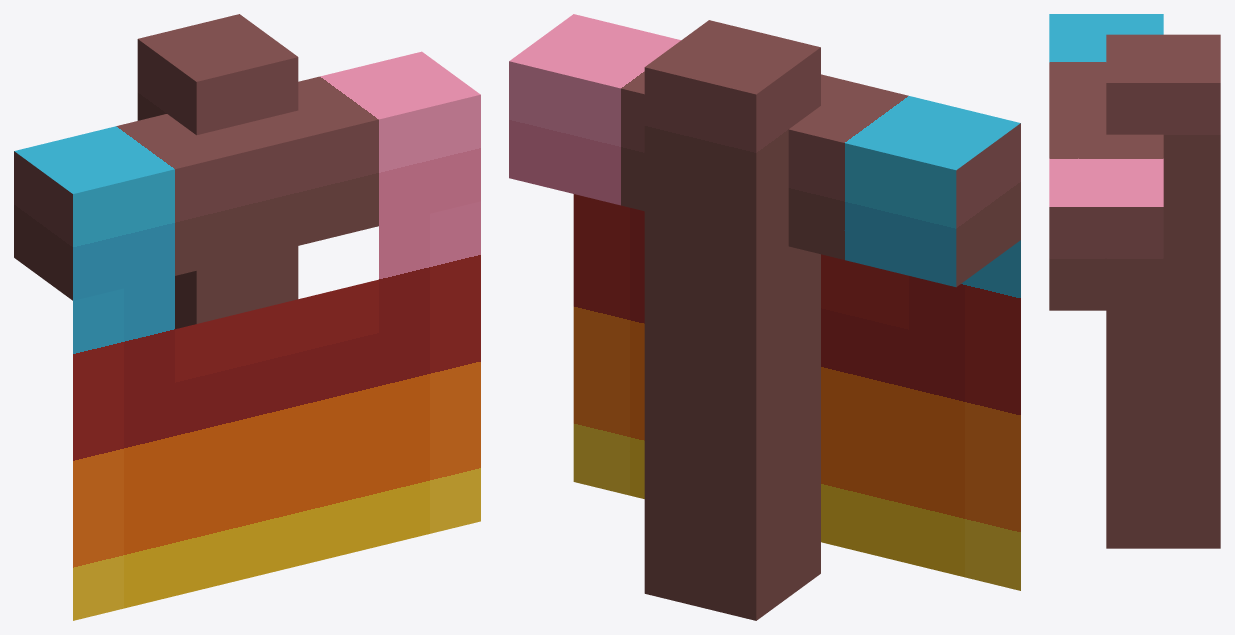
The model's file is _Rainbow Banner Flag.glb.
3 views of the same model, side by side, from view 1: azimuth 30°, elevation 25°; view 2: azimuth 150°, elevation 25°; view 3: azimuth 270°, elevation 25° (orthographic). The views are drawn at different scales.
Visible parts, largest first — view 1: cube; view 2: cube; view 3: cube.
Part boxes in pixels (left/top/right/bottom): cube: left=14, top=14, right=480, bottom=620; cube: left=509, top=14, right=1020, bottom=620; cube: left=1049, top=14, right=1220, bottom=548.
Bounding box in the file's own units: 1 × 1.12 × 0.375.
Materials: 1 (1 with a texture image).
